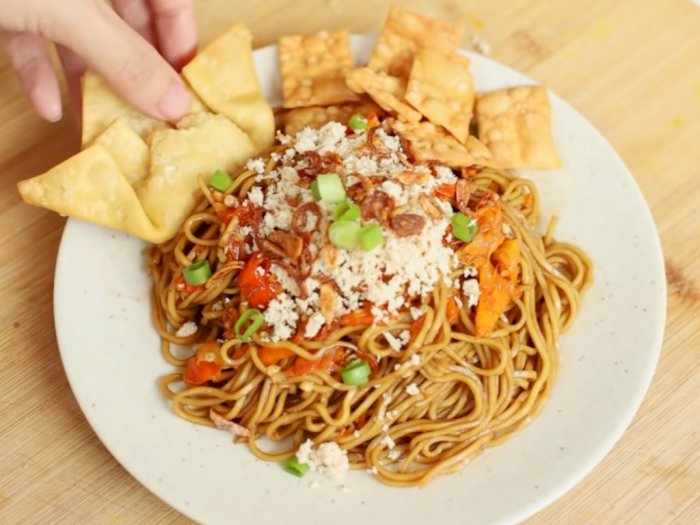Mie: (155, 120, 605, 444)
